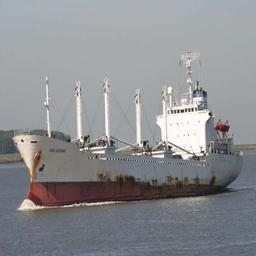Ship: (18, 77, 247, 214)
